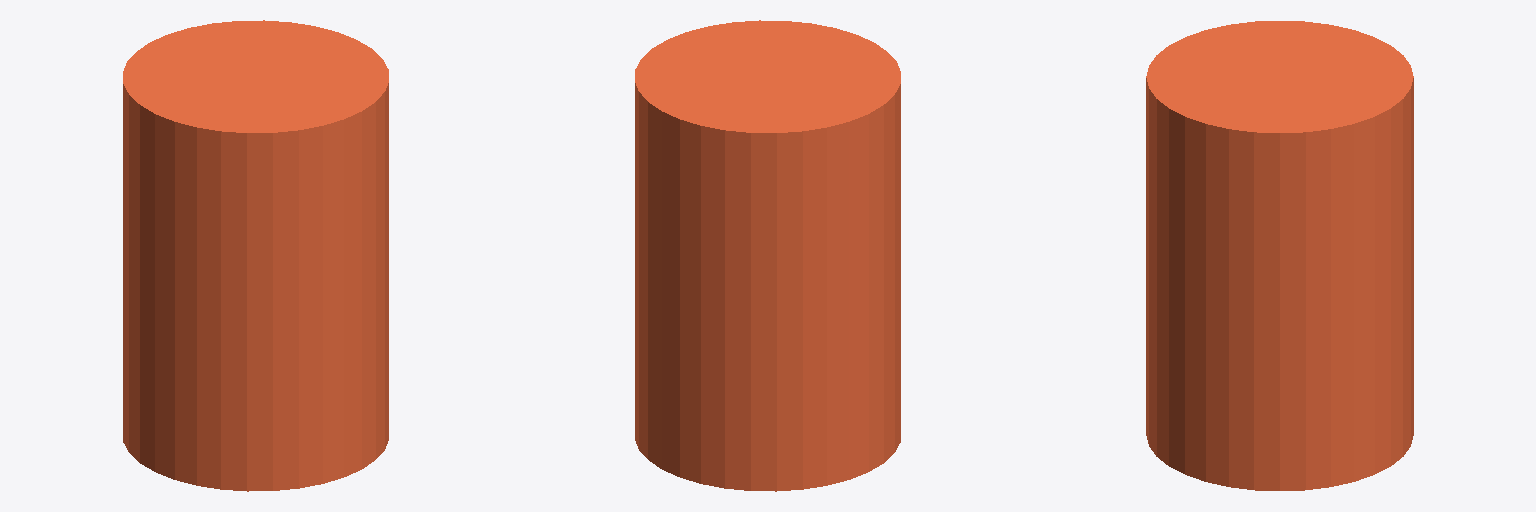
The robot description file, URDF, robot "myfirst":
<?xml version="1.0"?>
 <robot name="myfirst">
   <material name="red">
     <color rgba="1 0.498 0.3137 1"/>
   </material>
   <link name="obj_in_sim">
     <visual>
       <geometry>
         <cylinder length="0.1000" radius="0.033829689025878906"/>
       </geometry>
       <material name="red"/>
     </visual>
     <collision>
       <geometry>
         <cylinder length="0.1000" radius="0.033829689025878906"/>
       </geometry>
     </collision>
     <inertial>
       <mass value="1"/>
       <inertia ixx="1.0" ixy="0.0" ixz="0.0" iyy="1.0" iyz="0.0" izz="1.0"/>
     </inertial>
   </link>
 </robot>

--- Facts derived from the render (not from the file) ---
Views: 3 orthographic renders of the robot side by side, from view 1: azimuth 30°, elevation 25°; view 2: azimuth 150°, elevation 25°; view 3: azimuth 270°, elevation 25°.
Robot: myfirst — 1 links, 0 joints (none); root link obj_in_sim; default pose: every joint at zero.
Visible links, largest first — view 1: obj_in_sim; view 2: obj_in_sim; view 3: obj_in_sim.
Boxes of the visible links, bbox=[...] form: obj_in_sim: bbox=[123, 20, 388, 491]; obj_in_sim: bbox=[635, 20, 900, 491]; obj_in_sim: bbox=[1146, 21, 1413, 490].
Size in the robot's own frame: 0.0677 by 0.0677 by 0.1 metres.
Geometry: primitives only (box / cylinder / sphere), no mesh files.